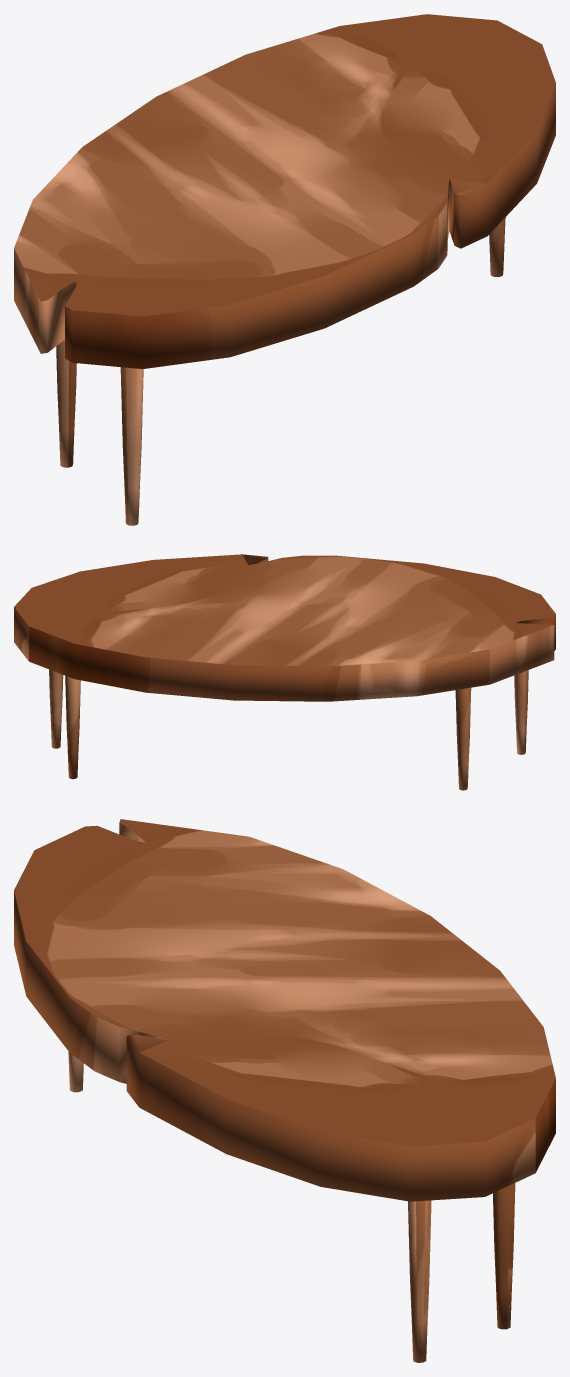
The model's file is Meja.FBX.
3 renders of one model, top to bottom at view 1: azimuth 30°, elevation 25°; view 2: azimuth 150°, elevation 25°; view 3: azimuth 270°, elevation 25°, orthographic. The views are drawn at different scales.
Parts seen in each view (by area): view 1: meja001; view 2: meja001; view 3: meja001.
Part boxes in pixels (left/top/right/bottom): meja001: left=14, top=14, right=555, bottom=525; meja001: left=14, top=554, right=555, bottom=790; meja001: left=14, top=819, right=555, bottom=1362.
Size of the model in its own units: 234 by 78.06 by 163.
Materials: 1 (1 with a texture image).
